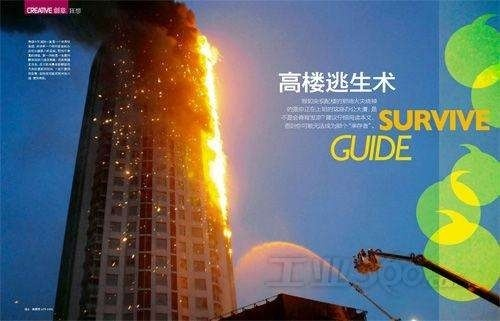fire: (192, 19, 233, 249)
